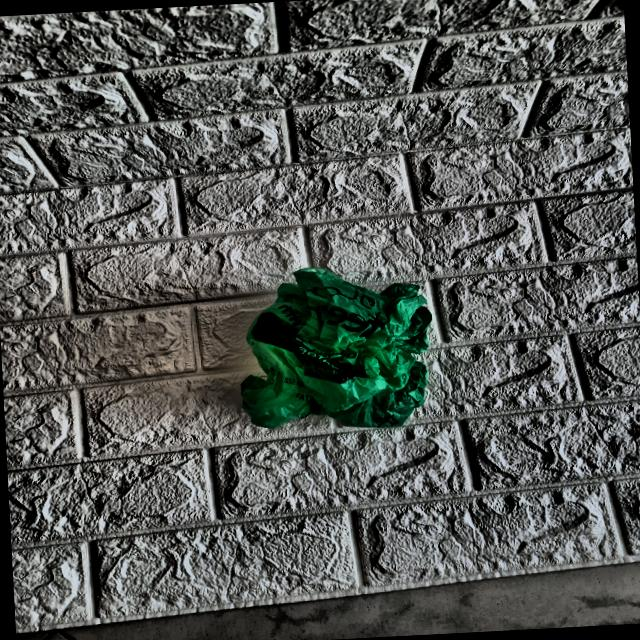plastic bag: (220, 261, 444, 442)
